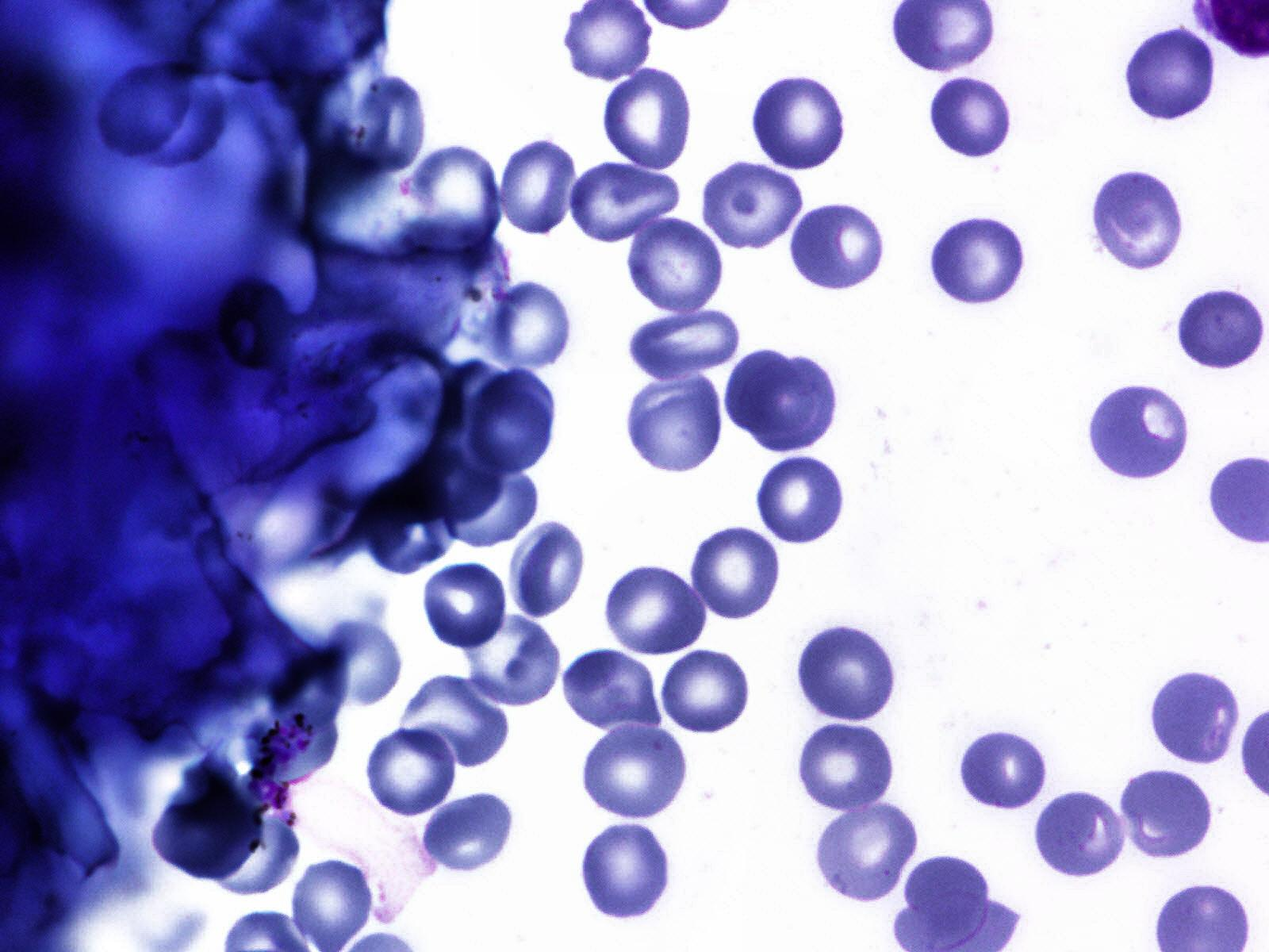Uninfected: (151, 781, 263, 879), (581, 723, 692, 820), (1085, 381, 1190, 483), (408, 142, 501, 255), (456, 367, 555, 473), (746, 71, 849, 172), (623, 215, 728, 314), (458, 607, 565, 704), (624, 374, 726, 475), (401, 675, 513, 766), (1091, 170, 1183, 278), (817, 804, 918, 902), (600, 68, 695, 171), (359, 480, 465, 572), (568, 157, 681, 243), (700, 161, 806, 252), (794, 627, 895, 721), (473, 278, 574, 372), (925, 215, 1027, 308), (579, 820, 672, 921), (334, 75, 425, 175), (606, 565, 708, 654), (1122, 28, 1216, 123), (799, 720, 896, 812), (753, 451, 846, 546), (899, 854, 993, 947), (745, 357, 836, 452), (1149, 672, 1237, 770), (563, 650, 665, 734), (366, 726, 458, 818), (688, 528, 779, 620), (1120, 769, 1213, 858), (446, 455, 535, 548), (627, 310, 741, 382), (1034, 789, 1125, 879), (791, 204, 884, 291), (420, 793, 518, 874), (499, 136, 575, 240), (1175, 285, 1265, 372), (661, 647, 751, 734), (726, 347, 811, 437), (508, 520, 582, 620), (423, 560, 508, 646), (957, 731, 1048, 811), (932, 75, 1014, 159)
